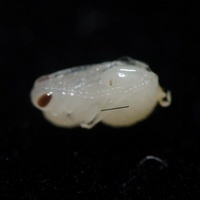insect: (31, 57, 170, 128)
